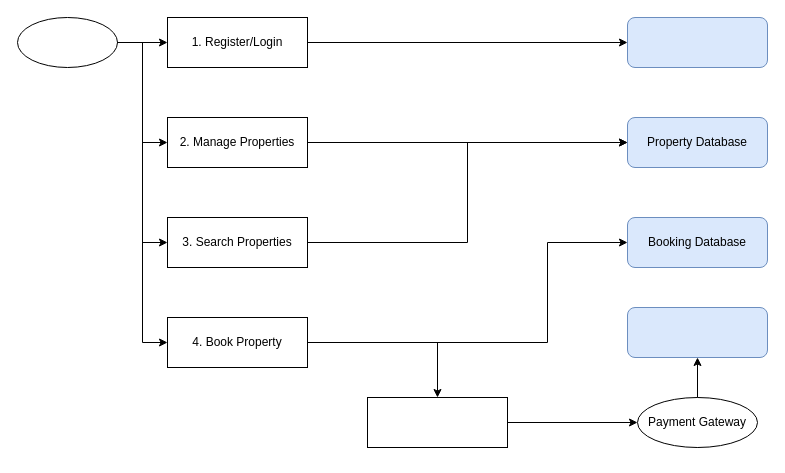
Image size: 785x473. Some labels were removed from this diagram. The centre of each missing label's shape, as x and y in pixels:
"5. Process Payment" goes at point 437,422.
"Payment Database" goes at point 697,332.
"User Database" goes at point 697,42.
"Users" goes at point 67,42.
